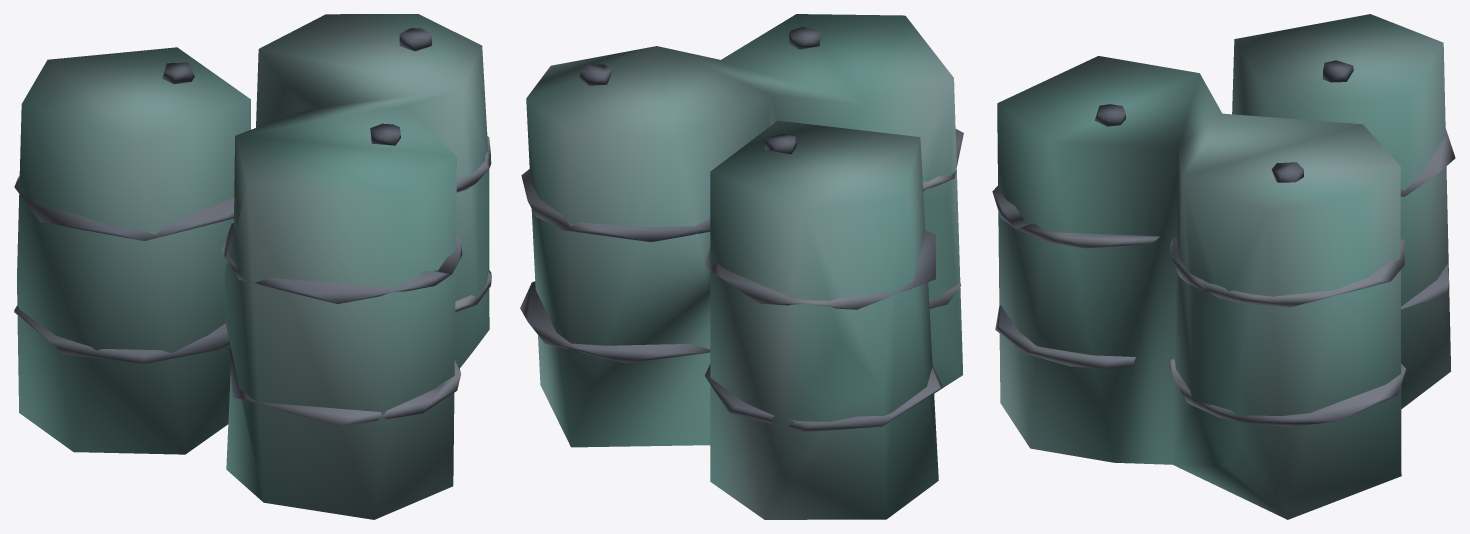
File: bay_drums.glb
3 renders of one model, left to right at view 1: azimuth 30°, elevation 25°; view 2: azimuth 150°, elevation 25°; view 3: azimuth 270°, elevation 25°, orthographic. The views are drawn at different scales.
Parts seen in each view (by area): view 1: drums; view 2: drums; view 3: drums.
Boxes of the visible parts, x1=… form: drums: x1=14, y1=14, x2=491, y2=519; drums: x1=520, y1=14, x2=963, y2=519; drums: x1=992, y1=14, x2=1455, y2=519.
Size of the model in its own units: 1.15 by 0.8725 by 1.12.
